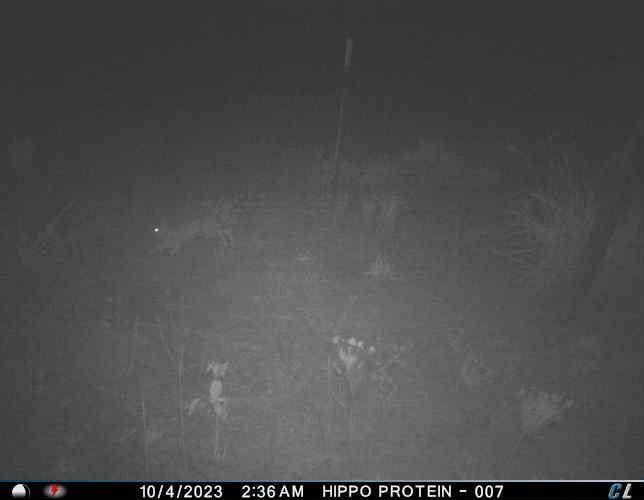Rabbit: (145, 207, 235, 257)
